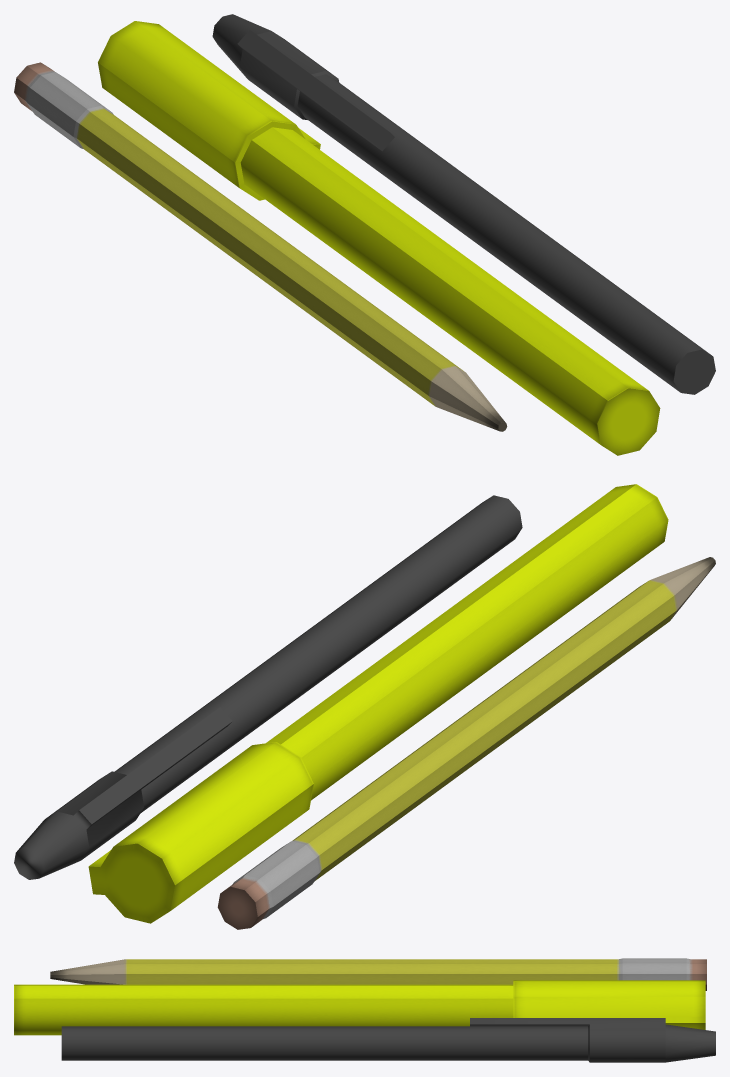
Rendered from pen,marker,pencil.fbx.
The picture shows the model from 3 angles, top to bottom: view 1: azimuth 30°, elevation 25°; view 2: azimuth 150°, elevation 25°; view 3: azimuth 270°, elevation 25°; orthographic projection. The views are drawn at different scales.
Parts seen in each view (by area): view 1: Cylinder.005, Cylinder.007, Cylinder.006; view 2: Cylinder.005, Cylinder.007, Cylinder.006; view 3: Cylinder.005, Cylinder.007, Cylinder.006.
Boxes of the visible parts, bbox=[...] form: Cylinder.005: bbox=[98, 21, 660, 455]; Cylinder.007: bbox=[212, 14, 715, 394]; Cylinder.006: bbox=[14, 62, 507, 431]; Cylinder.005: bbox=[88, 484, 668, 923]; Cylinder.007: bbox=[14, 495, 522, 879]; Cylinder.006: bbox=[217, 557, 715, 929]; Cylinder.005: bbox=[14, 980, 705, 1035]; Cylinder.007: bbox=[61, 1018, 715, 1062]; Cylinder.006: bbox=[50, 958, 706, 990].
Bounding box in the file's own units: 17.26 × 5.15 × 61.29.
Materials: 3 (3 with a texture image).
